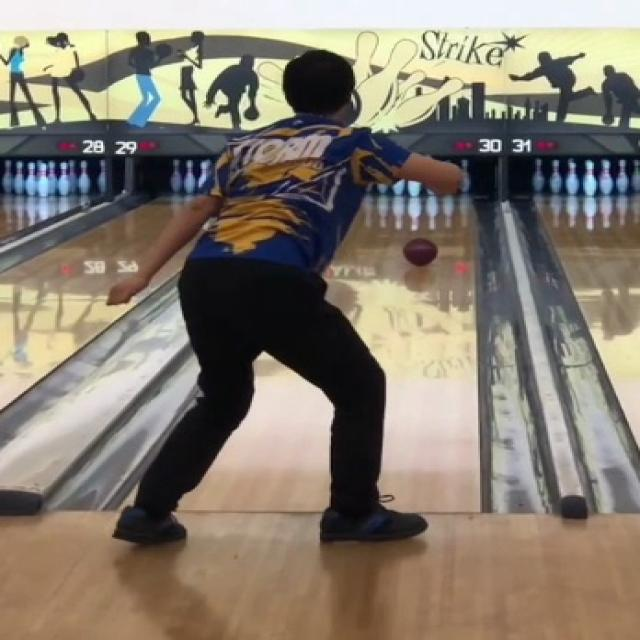alley: (326, 198, 476, 510), (182, 355, 327, 510)
balls: (403, 238, 436, 266)
bottle: (377, 180, 429, 196), (460, 160, 469, 190)
